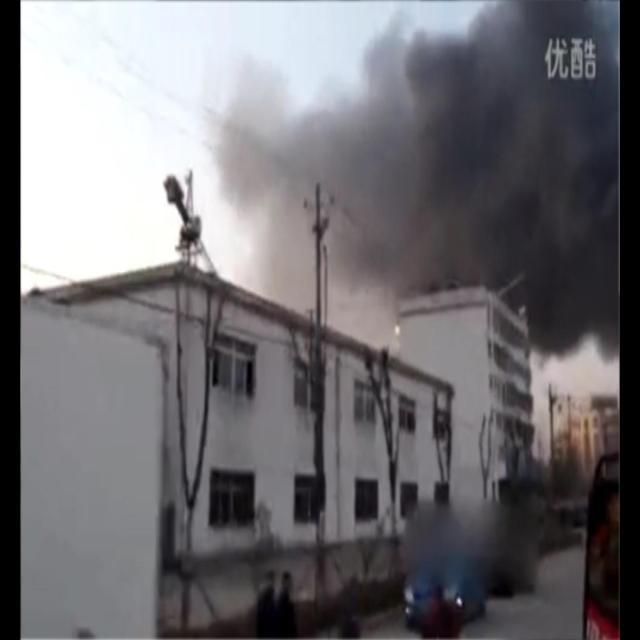Smoke: (209, 1, 621, 372)
